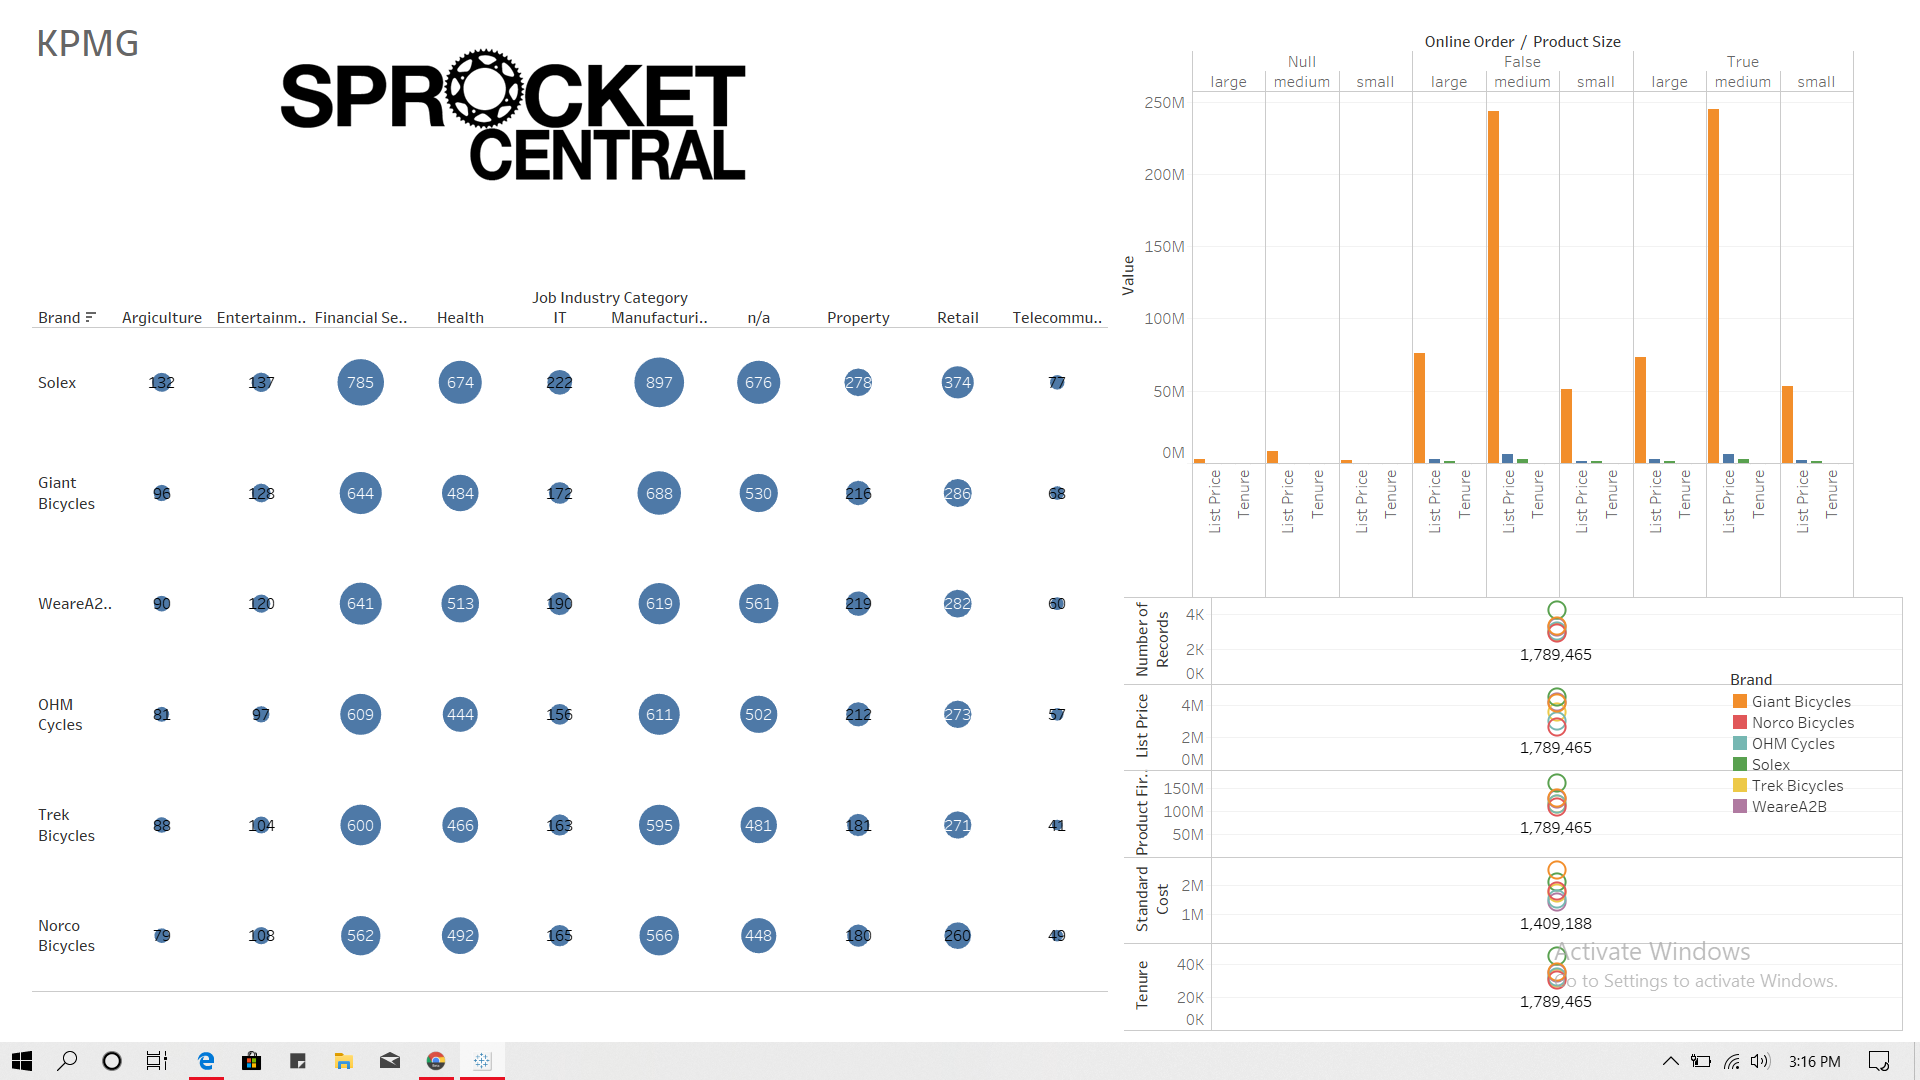

What the dashboard file says about the page in this screenshot:
{"tool":"tableau","page":{"name":"Dashboard 1","canvas":[1000,1000],"units":"permille","ordinal":0},"visuals":[{"type":"worksheet","title":"Sheet 2","mark":"Circle","box":[637.9,16,307.2,477.7]},{"type":"text","box":[24.7,39,112.9,34.4]},{"type":"legend","title":"Sheet 2","param":"[federated.10zzsdp0hoaa021cgm0eb0f26sjg].[sum:Number of Records:qk]","box":[844.9,75.6,84.5,100.8]},{"type":"image","param":"Image/sprocket_central_logo.png","box":[96.6,95.1,511.2,215.3]},{"type":"worksheet","title":"Sheet 3","mark":"Automatic","rows":["tenure"],"cols":["customer_id"],"box":[6.6,392.9,624,600.2]},{"type":"worksheet","title":"Sheet 1","mark":"Shape","rows":["list_price","product_first_sold_date","tenure"],"cols":["gender"],"box":[672.9,493.7,322.9,499.4]},{"type":"legend","title":"Sheet 1","param":"[federated.10zzsdp0hoaa021cgm0eb0f26sjg].[none:product_class:nk]","box":[941.5,515.5,42.9,112.3]},{"type":"legend","title":"Sheet 3","param":"[federated.10zzsdp0hoaa021cgm0eb0f26sjg].[none:Forecast Indicator:nk]","box":[465.9,518.9,84.5,73.3]}]}

Visuals, with their boxes on the dashboard's canvas, which has no fixed pixel size, in thousandths of its width and height (x1, y1, x2, y2). These are canvas units, not pixel positions in the 1920x1080 screenshot, which may show the page scaled, cropped or inside an application window:
"Sheet 2" worksheet (Circle marks): {"left": 638, "top": 16, "right": 945, "bottom": 494}
text: {"left": 25, "top": 39, "right": 138, "bottom": 73}
"Sheet 2" legend: {"left": 845, "top": 76, "right": 929, "bottom": 176}
image: {"left": 97, "top": 95, "right": 608, "bottom": 310}
"Sheet 3" worksheet: {"left": 7, "top": 393, "right": 631, "bottom": 993}
"Sheet 1" worksheet (Shape marks): {"left": 673, "top": 494, "right": 996, "bottom": 993}
"Sheet 1" legend: {"left": 942, "top": 516, "right": 984, "bottom": 628}
"Sheet 3" legend: {"left": 466, "top": 519, "right": 550, "bottom": 592}
